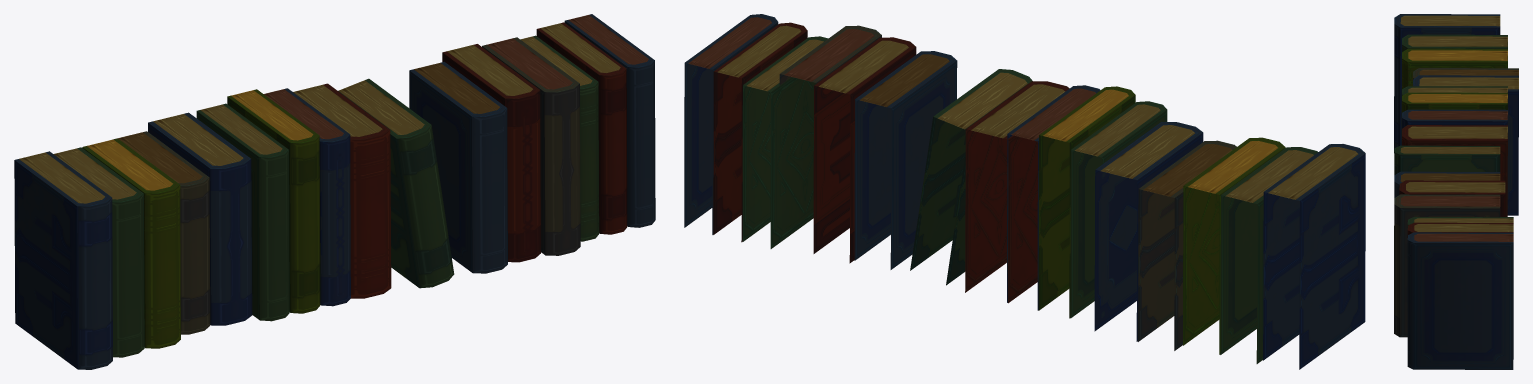
File: BookGroup_Medium_1.gltf
3 renders of one model, left to right at view 1: azimuth 30°, elevation 25°; view 2: azimuth 150°, elevation 25°; view 3: azimuth 270°, elevation 25°, orthographic. The views are drawn at different scales.
Visible parts, largest first — view 1: BookGroup_Medium_1; view 2: BookGroup_Medium_1; view 3: BookGroup_Medium_1.
Boxes of the visible parts, x1,y1,x2,y2 form: BookGroup_Medium_1: (14, 14, 655, 369); BookGroup_Medium_1: (684, 14, 1365, 369); BookGroup_Medium_1: (1394, 14, 1518, 369).
Bounding box in the file's own units: 1.06 × 0.2982 × 0.2475.
Materials: 1 (1 with a texture image).
